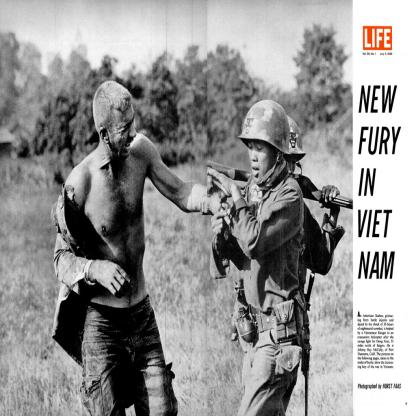Helmet: (240, 104, 301, 165), (281, 117, 306, 160)
